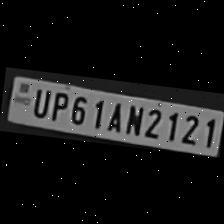1: (196, 113, 218, 149), (86, 94, 106, 130), (160, 106, 180, 142)
2: (175, 110, 200, 146), (139, 104, 163, 140)
6: (64, 92, 90, 128)
A: (102, 97, 125, 133)
N: (120, 100, 143, 136)
P: (45, 88, 68, 122)
U: (27, 84, 49, 118)
